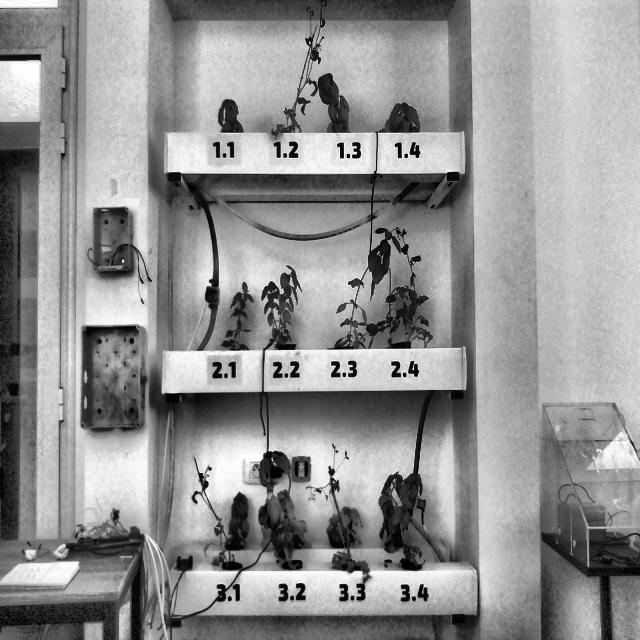plants: (332, 227, 410, 349), (267, 13, 333, 136), (320, 445, 368, 572), (259, 453, 307, 569), (192, 455, 236, 571), (390, 226, 430, 348), (380, 472, 423, 570), (260, 269, 301, 349), (258, 491, 310, 549), (317, 72, 356, 132), (222, 291, 256, 350), (325, 506, 363, 551), (226, 491, 251, 549), (377, 101, 421, 132), (217, 99, 244, 132)
